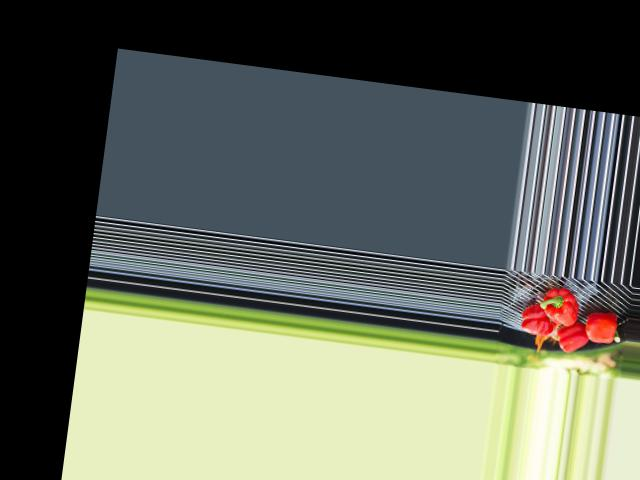bell_pepper: (518, 303, 558, 338)
